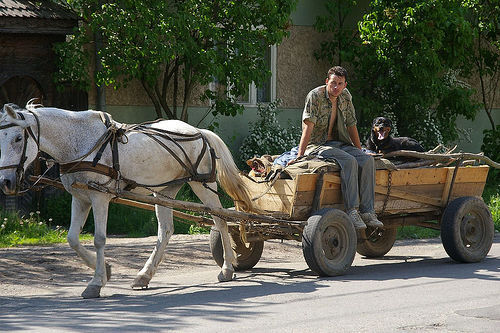horse: (1, 98, 260, 303)
